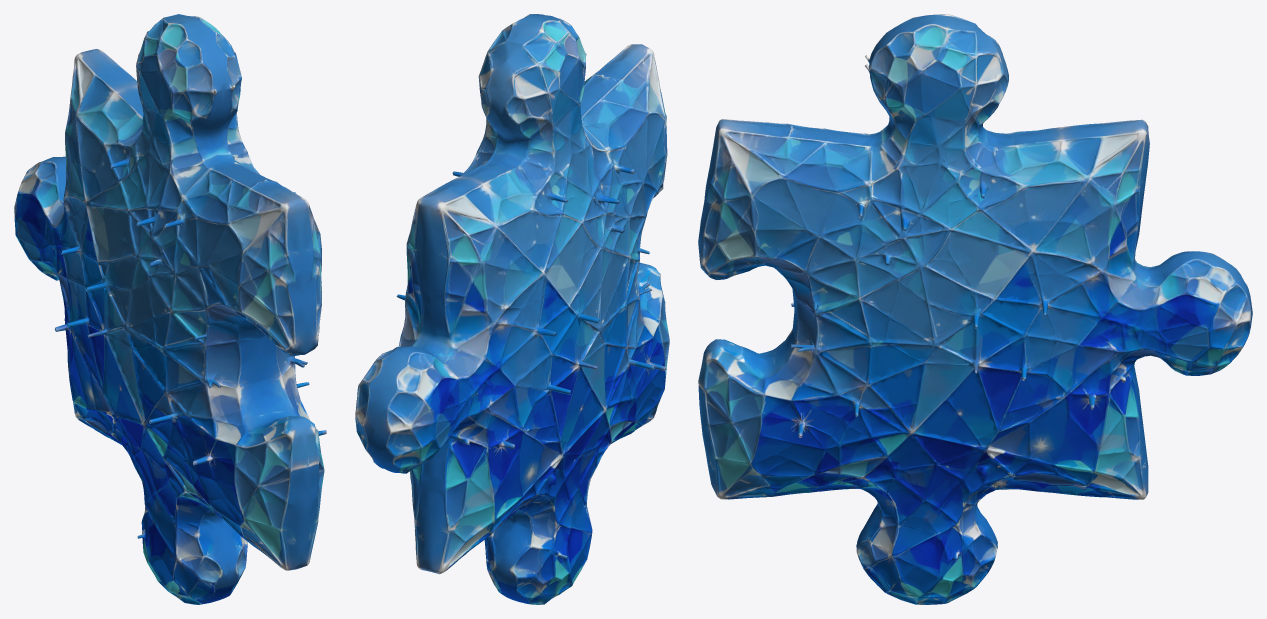
File: puzzle3.glb
3 views of the same model, side by side, from view 1: azimuth 30°, elevation 25°; view 2: azimuth 150°, elevation 25°; view 3: azimuth 270°, elevation 25° (orthographic).
Visible parts, largest first — view 1: tripo_node_0243fc99-9c10-45ca-997d-5a2ee449ce70; view 2: tripo_node_0243fc99-9c10-45ca-997d-5a2ee449ce70; view 3: tripo_node_0243fc99-9c10-45ca-997d-5a2ee449ce70.
Boxes of the visible parts, box(x1,y1,x2,y2) form: tripo_node_0243fc99-9c10-45ca-997d-5a2ee449ce70: box(14, 14, 326, 604); tripo_node_0243fc99-9c10-45ca-997d-5a2ee449ce70: box(355, 14, 669, 604); tripo_node_0243fc99-9c10-45ca-997d-5a2ee449ce70: box(698, 14, 1252, 604).
Bounding box in the file's own units: 0.3029 × 0.9799 × 0.8466.
1 material, 1 textured.
